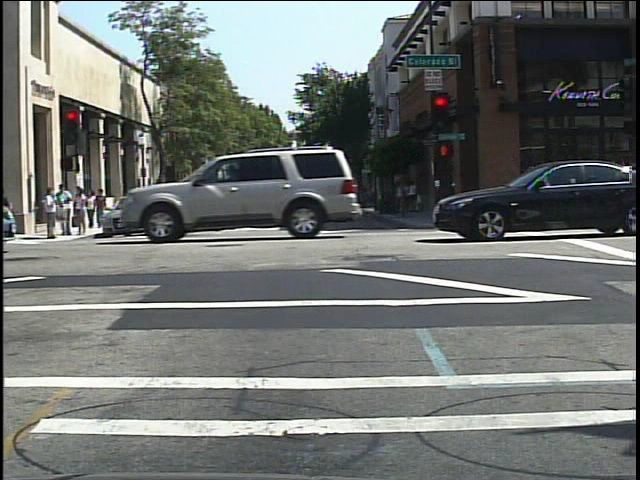person: (178, 181, 195, 217), (86, 187, 99, 230), (132, 185, 147, 215)
